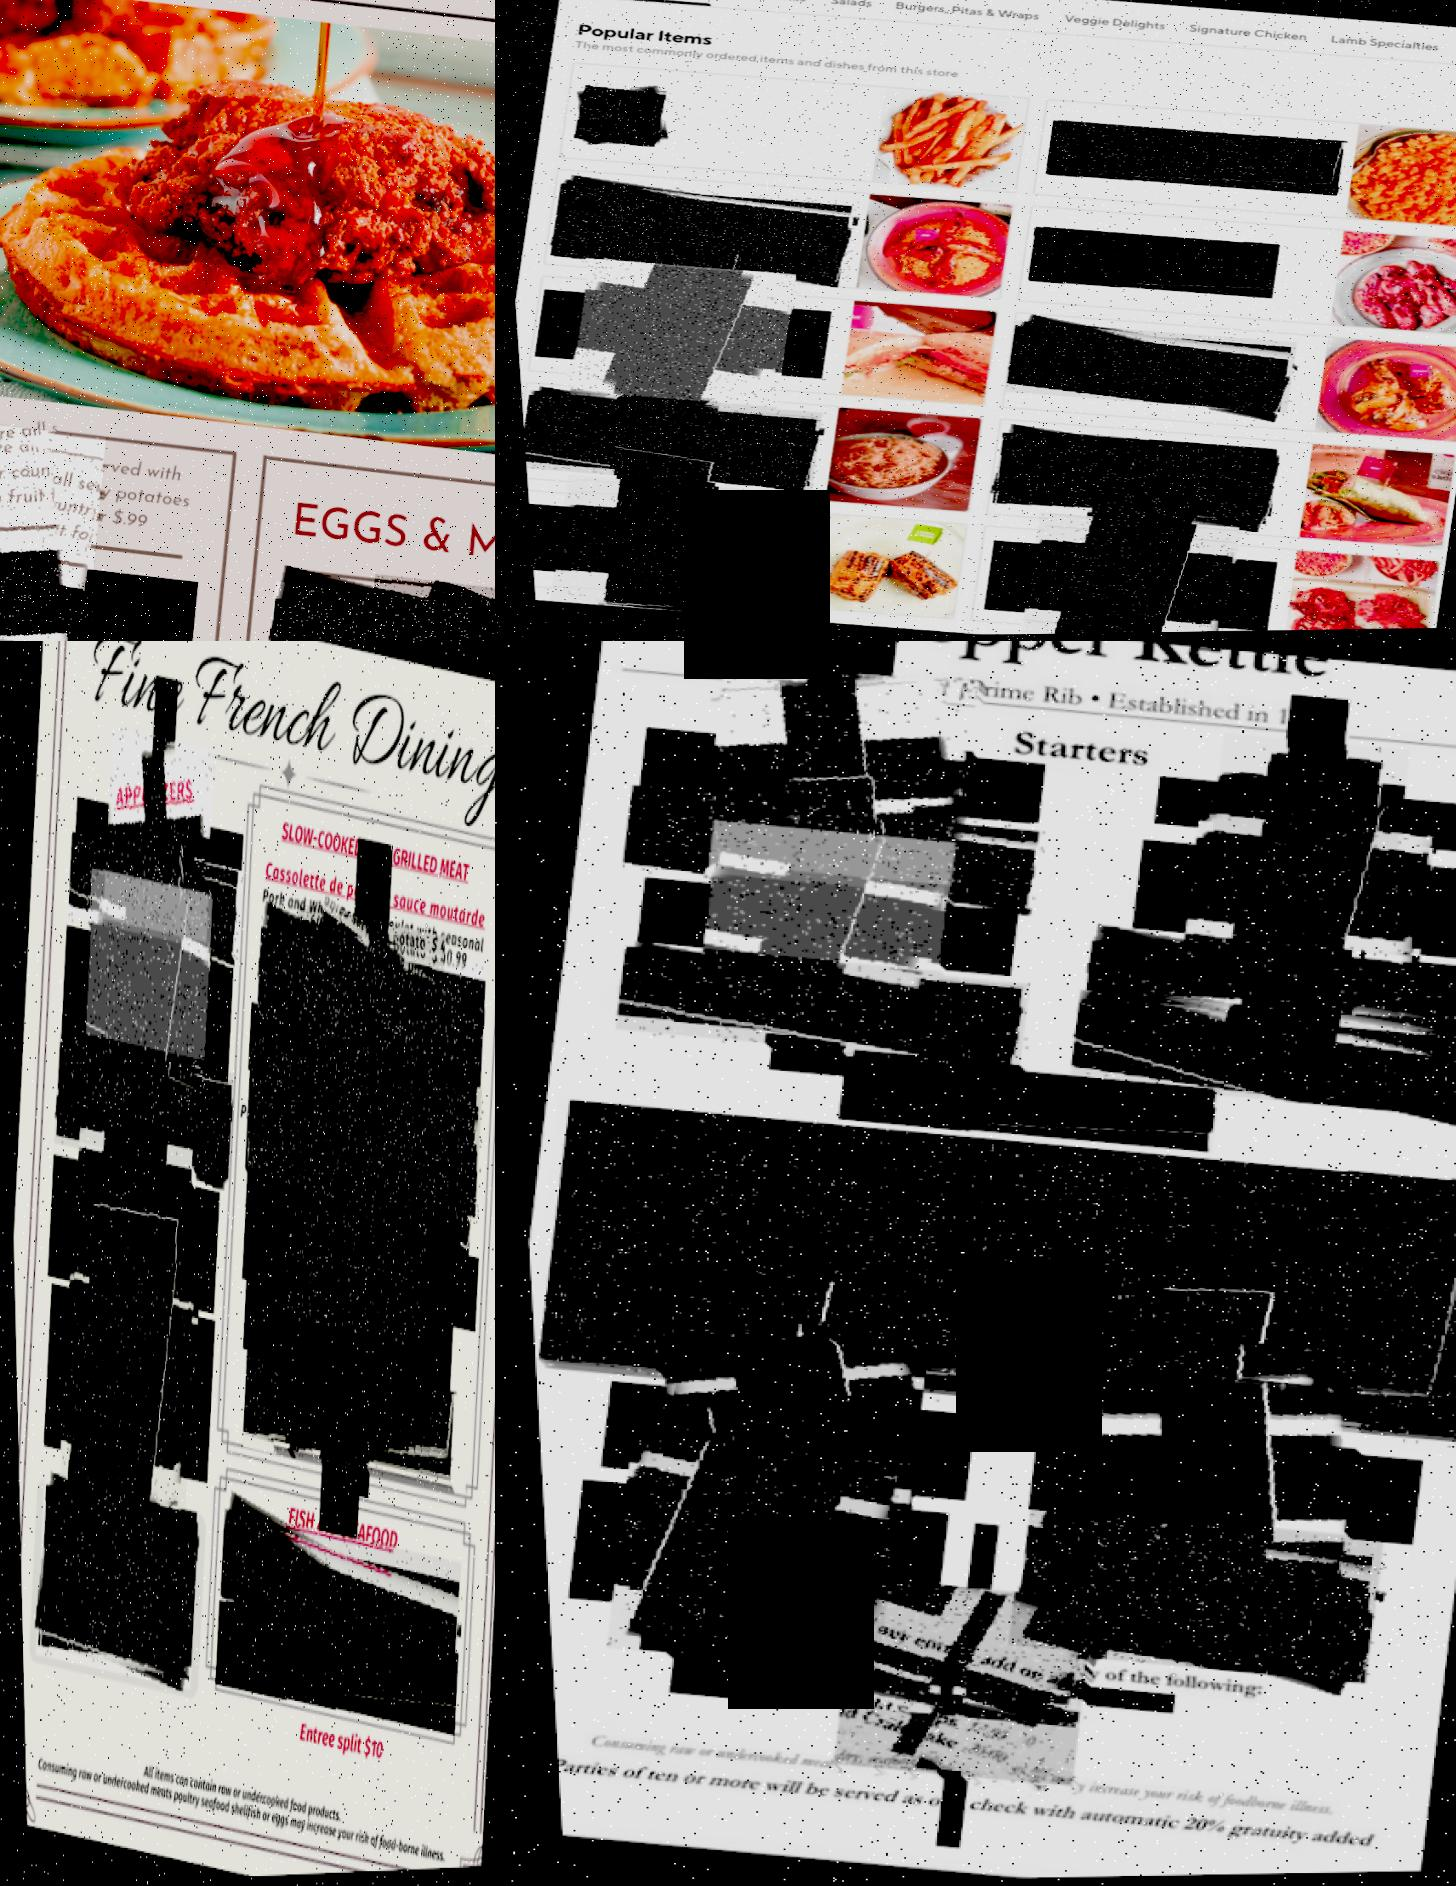Menu-Items: (517, 1089, 1456, 1468), (584, 1433, 910, 1684), (1061, 1371, 1369, 1609), (688, 659, 994, 898), (996, 1507, 1386, 1692), (629, 1329, 927, 1559), (812, 1577, 1097, 1797), (684, 820, 967, 1040), (616, 780, 1054, 918), (607, 942, 1035, 1081), (1165, 798, 1442, 1010), (275, 901, 450, 1231), (1061, 988, 1456, 1129), (272, 1110, 440, 1432), (240, 1031, 485, 1237), (275, 1049, 436, 1357), (213, 1502, 460, 1683), (268, 1192, 421, 1484), (1078, 928, 1456, 1046), (830, 1051, 1222, 1162), (52, 1242, 200, 1527), (252, 907, 486, 1080), (251, 834, 494, 994), (208, 1592, 454, 1748), (28, 1473, 197, 1696), (75, 869, 216, 1138), (557, 257, 798, 413), (1196, 736, 1413, 902), (61, 1104, 199, 1364), (237, 1343, 457, 1505), (543, 176, 861, 286), (534, 473, 765, 618), (515, 387, 824, 494), (977, 425, 1277, 534), (996, 320, 1298, 421), (49, 1026, 232, 1190), (1005, 511, 1237, 635), (98, 722, 219, 954), (1040, 118, 1350, 203), (64, 828, 245, 971), (1020, 225, 1279, 304), (817, 1680, 1080, 1735), (817, 1722, 1061, 1774), (844, 1709, 1052, 1751), (567, 81, 673, 148)
